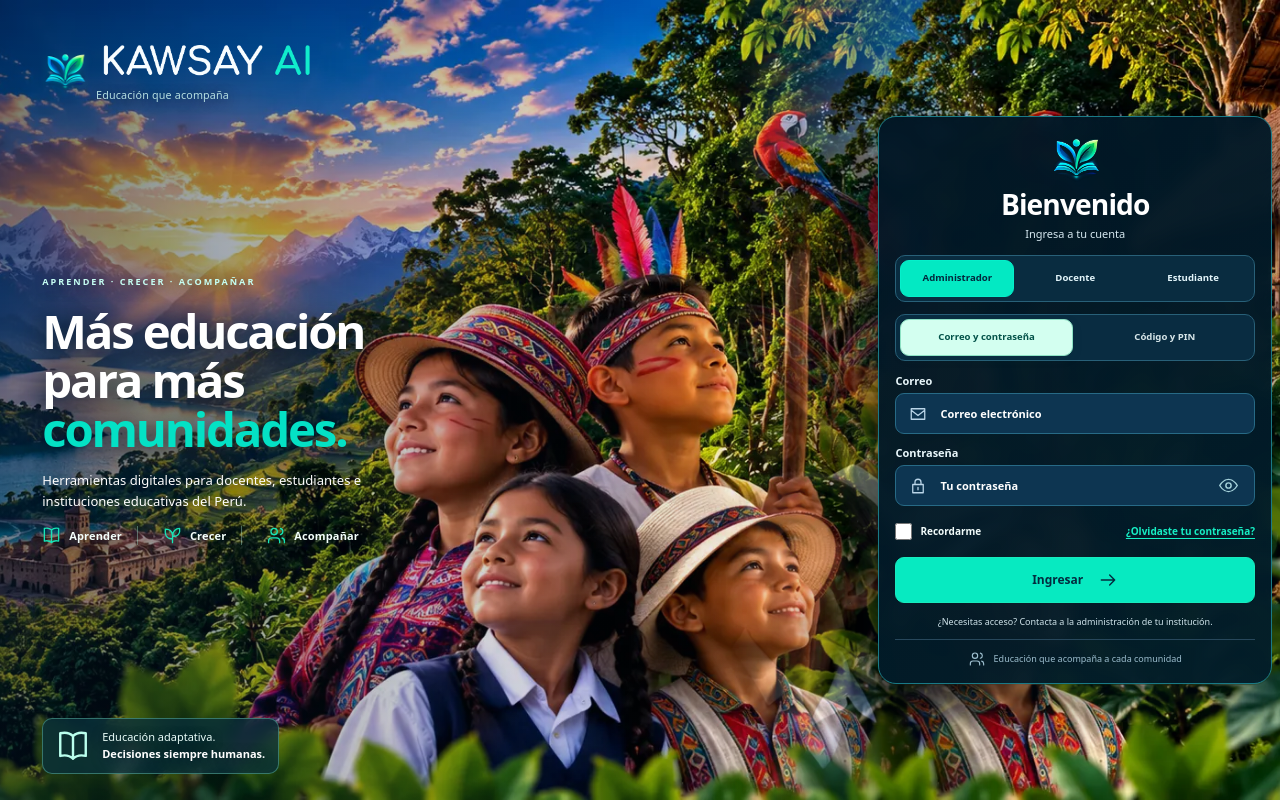
Test case: Login y control de acceso › un estudiante no puede entrar al panel docente
This screenshot has width=1280, height=800.
Type "k@b.pe" into the field labelled "Correo" at (1090, 414), box [938,395,1241,432]
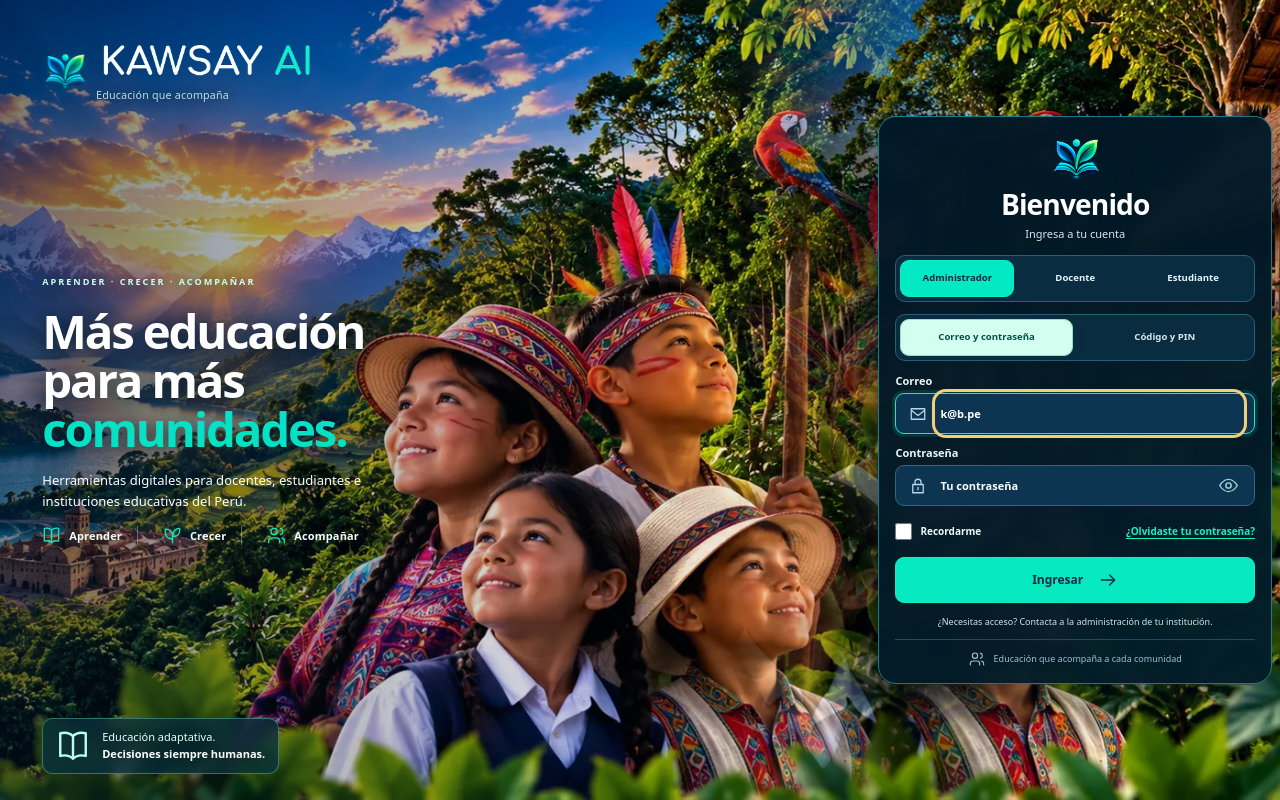
Type "x" into the password field labelled "Contraseña" at (1090, 486), box [938,468,1241,504]
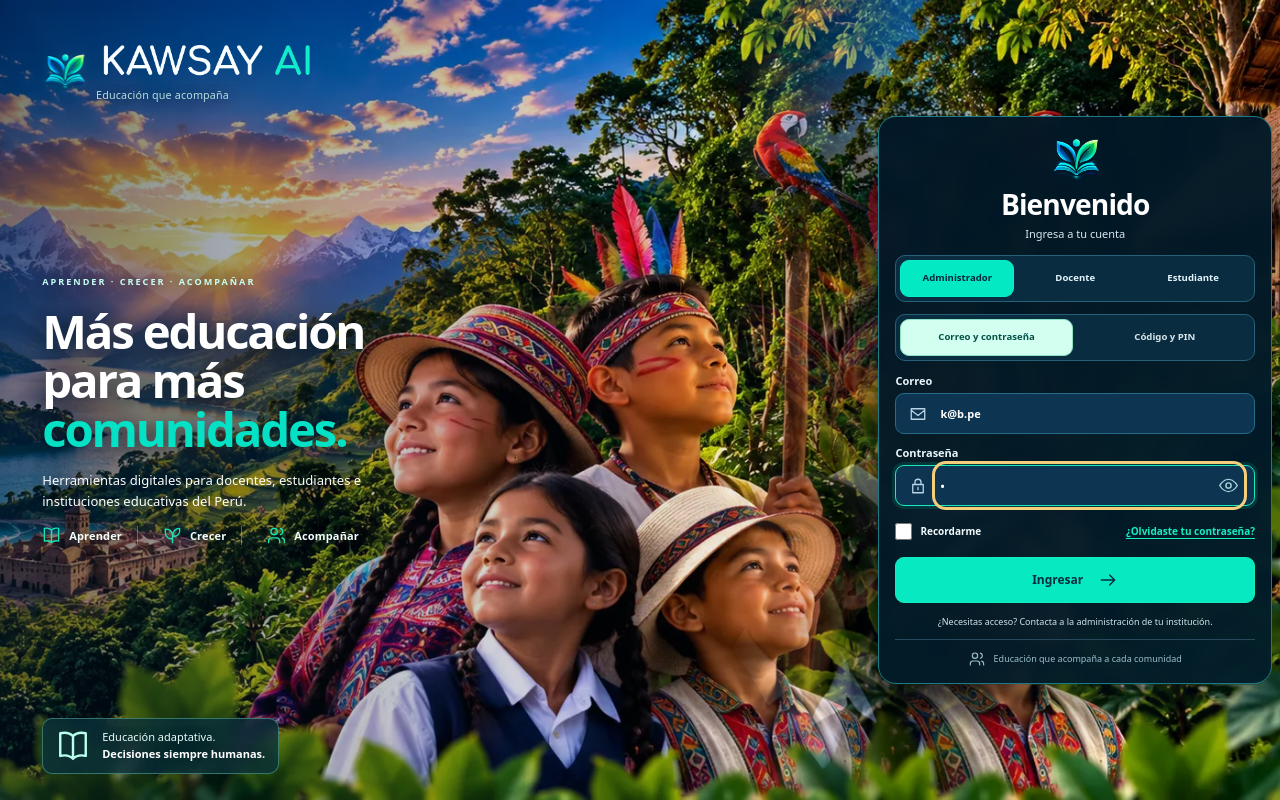
Click the button "Ingresar" at (1075, 580), box [895,558,1255,604]
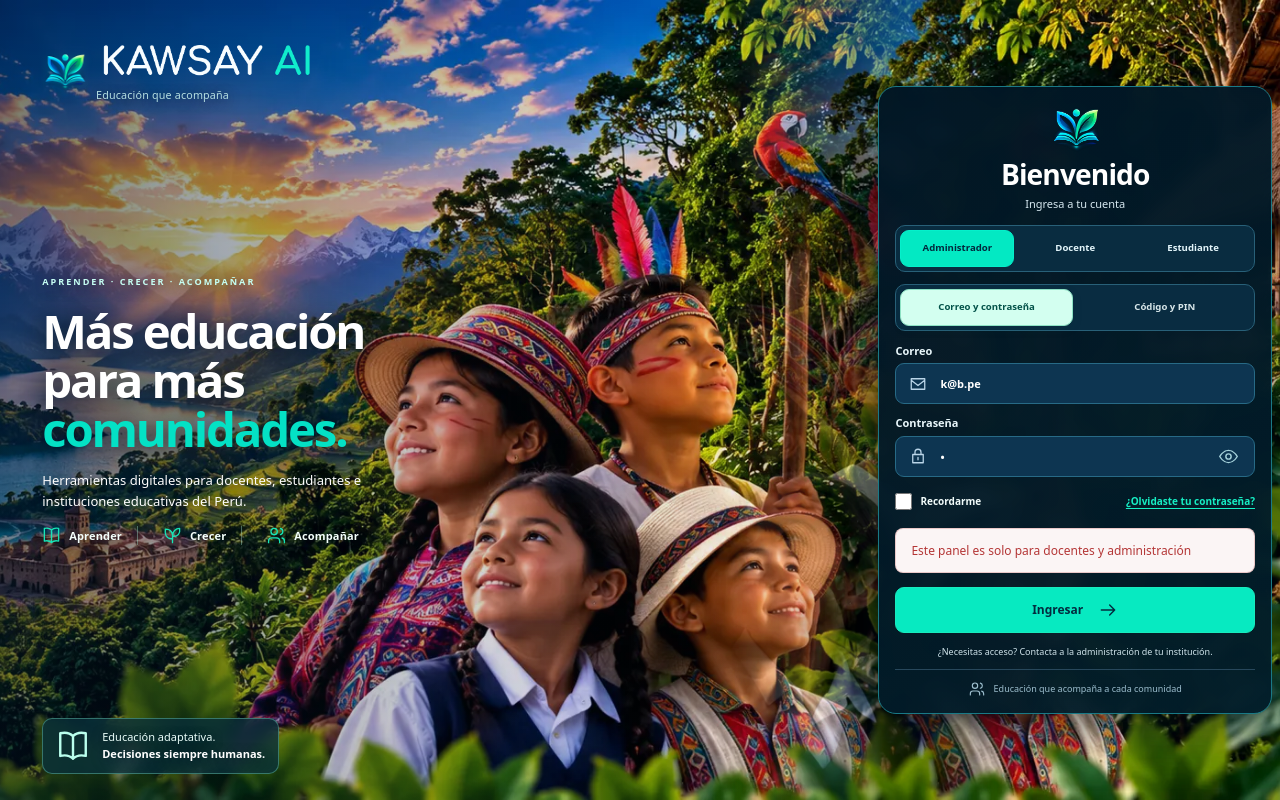
Check: the message shows "solo para docentes", box [911,542,1191,559]
